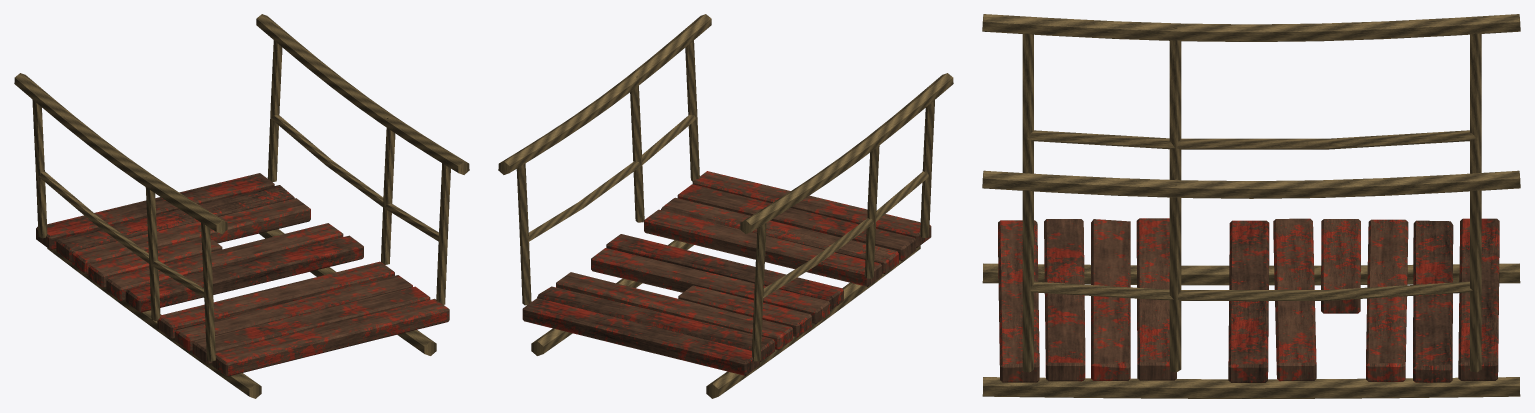
File: Rope_Bridge_Deck_B.glb
3 renders of one model, left to right at view 1: azimuth 30°, elevation 25°; view 2: azimuth 150°, elevation 25°; view 3: azimuth 270°, elevation 25°, orthographic. The views are drawn at different scales.
Visible parts, largest first — view 1: Rope_Bridge_Deck_B__Timber, Rope_Bridge_Deck_B__Rope; view 2: Rope_Bridge_Deck_B__Timber, Rope_Bridge_Deck_B__Rope; view 3: Rope_Bridge_Deck_B__Timber, Rope_Bridge_Deck_B__Rope.
Boxes of the visible parts, <box> form: Rope_Bridge_Deck_B__Timber: <box>36,173,449,376</box>; Rope_Bridge_Deck_B__Rope: <box>14,14,469,398</box>; Rope_Bridge_Deck_B__Timber: <box>522,171,931,375</box>; Rope_Bridge_Deck_B__Rope: <box>498,14,953,398</box>; Rope_Bridge_Deck_B__Timber: <box>998,218,1499,382</box>; Rope_Bridge_Deck_B__Rope: <box>982,14,1520,398</box>.
Size of the model in its own units: 6.07 by 4.31 by 8.42.
2 materials, 2 textured.
